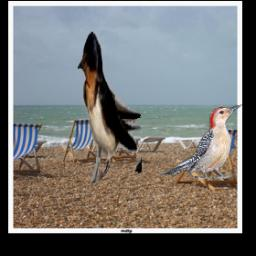Swallow: (78, 32, 143, 189)
Woodpecker: (158, 103, 242, 179)
